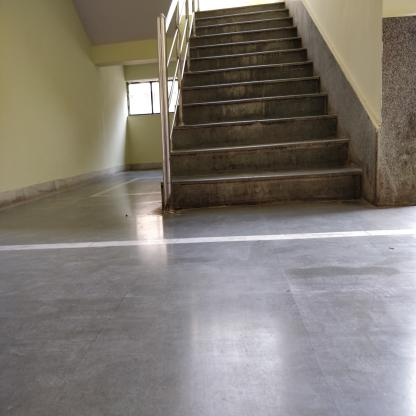stairs: (201, 5, 289, 213)
